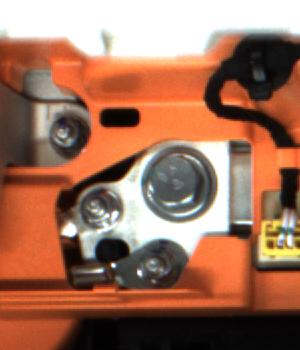nut_b: (139, 140, 222, 224)
